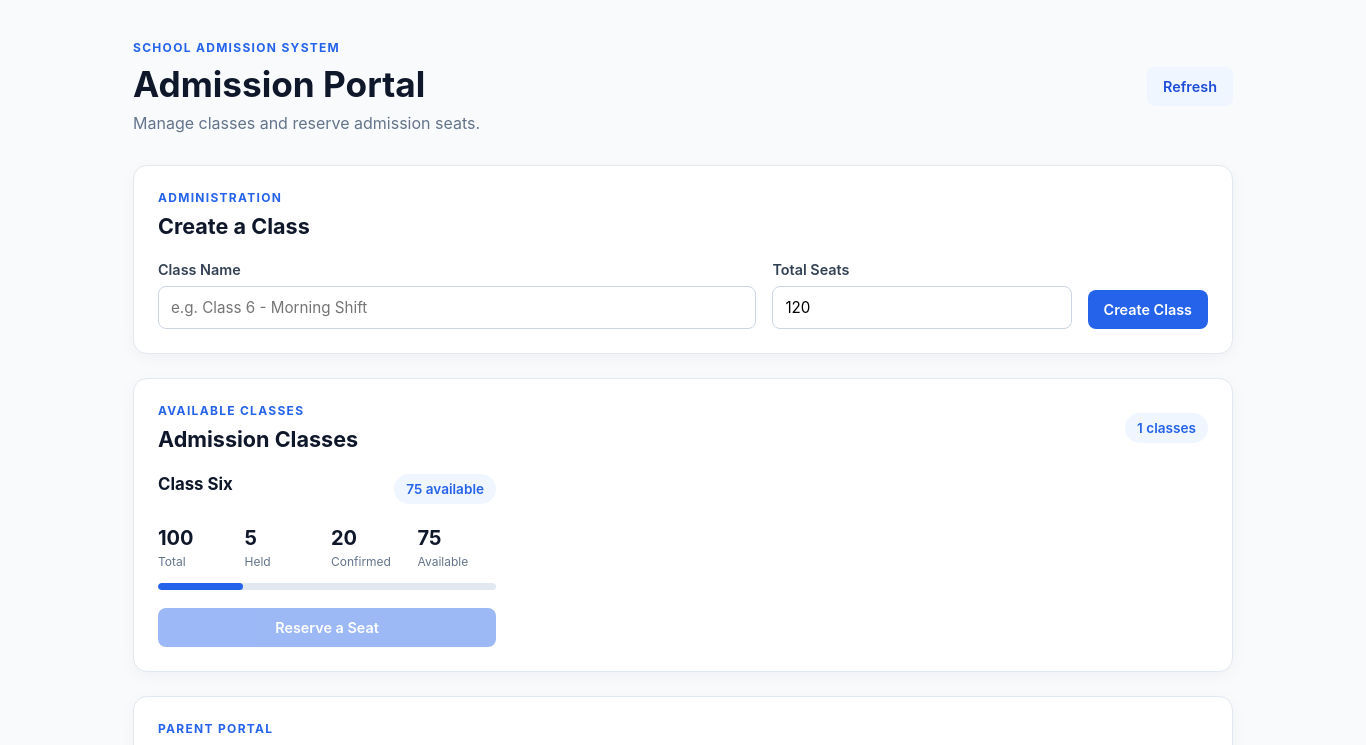
Test case: App › should create a class and refresh the class list
The width and height of the screenshot is (1366, 745).
expect the heading "Class Six" is shown: met, box [158,474,233,494]
Type "Class Seven" into the field labelled "Class Name". click: (457, 308)
box: [158,286,756,329]
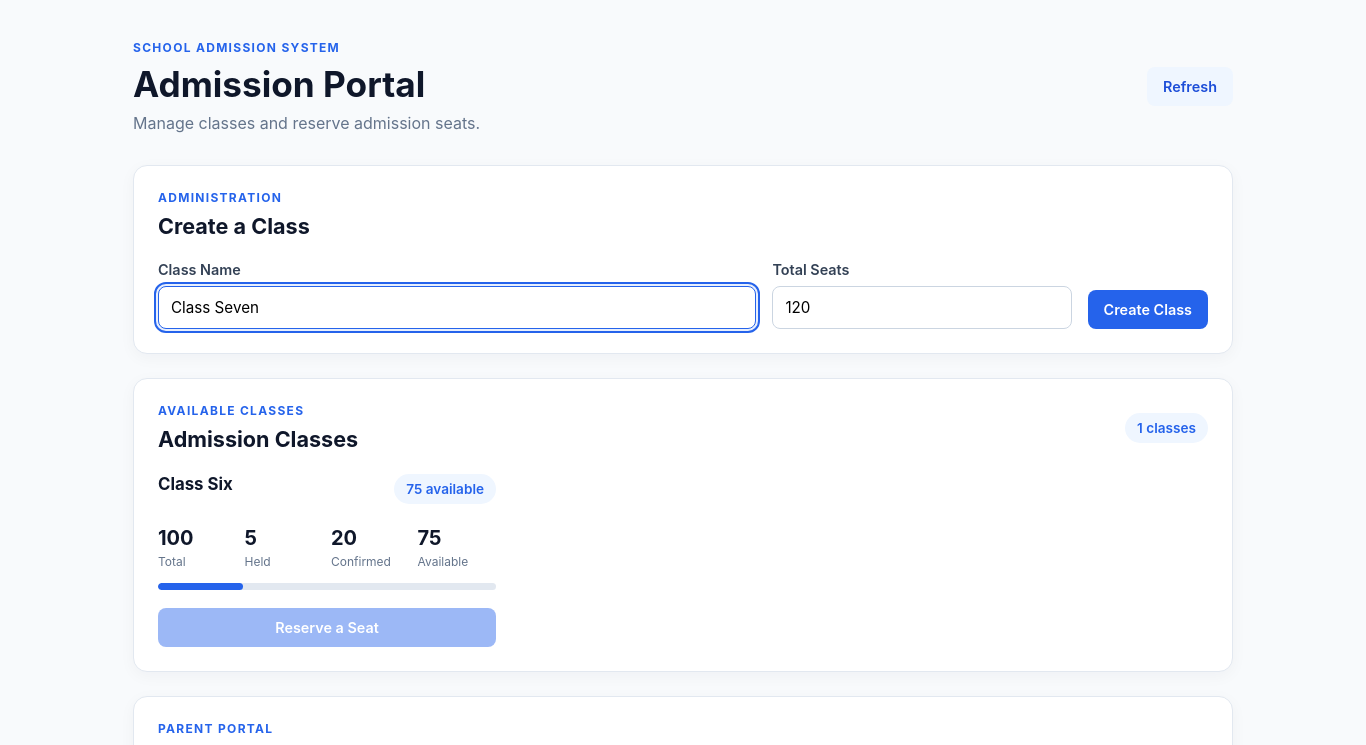
Replace the text in the number field labelled "Total Seats" with "80". click: (922, 308)
box: [772,286,1072,329]
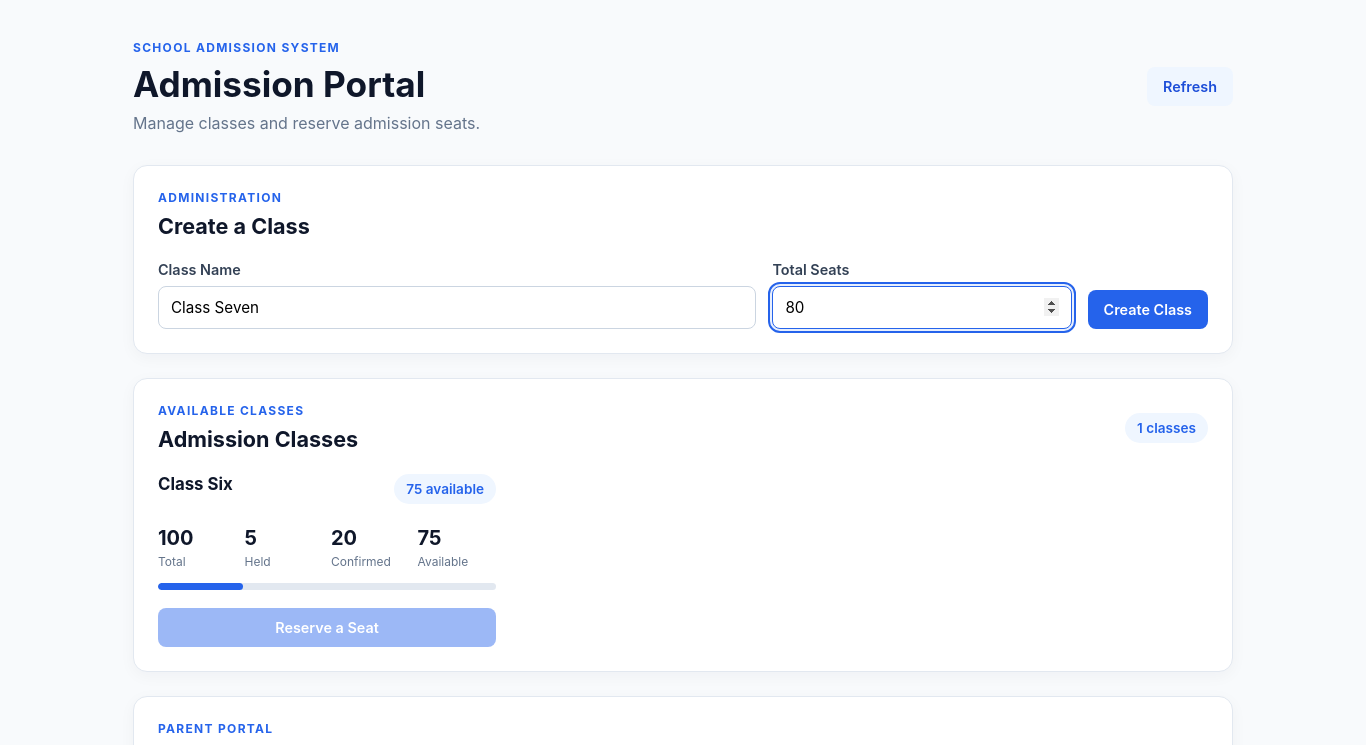
Click the button "Create Class". click: (1148, 310)
box: [1088,290,1208,329]
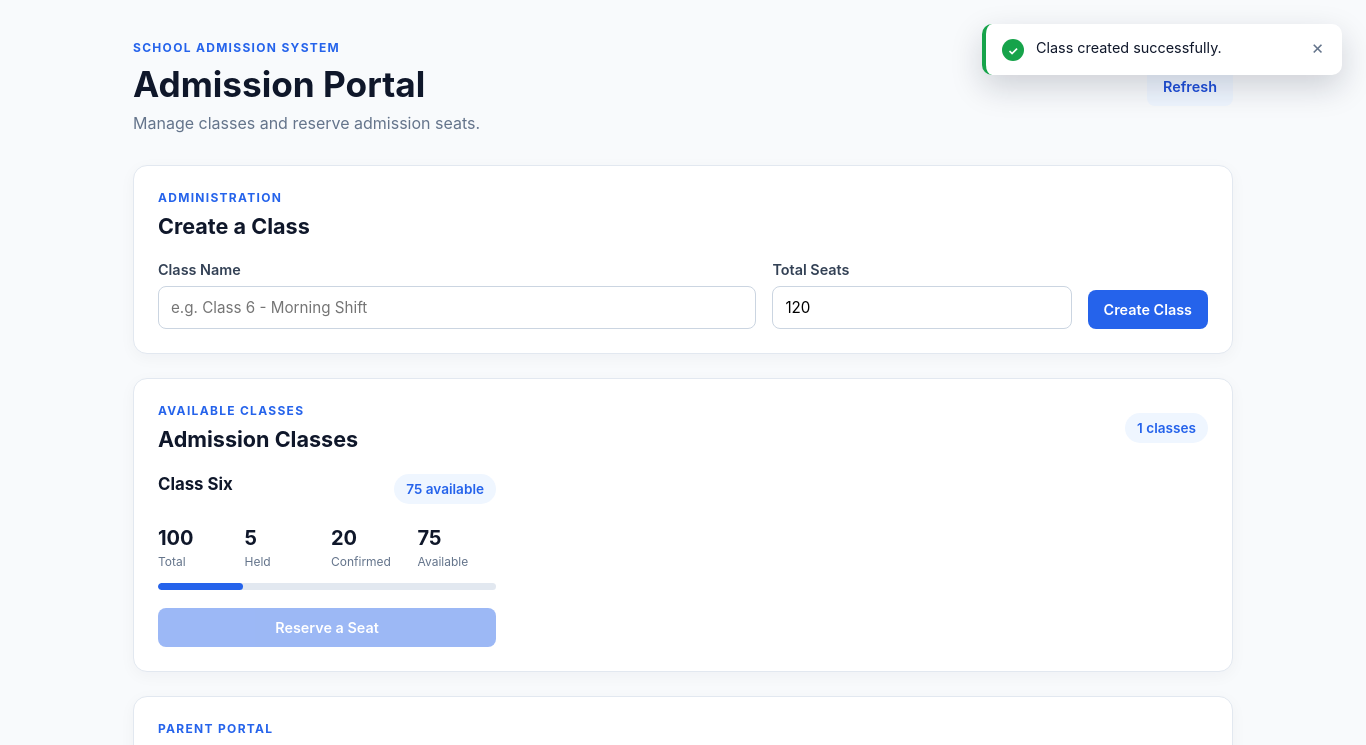
expect the text "Class created successfully." is shown: met, box [1036,39,1222,56]
